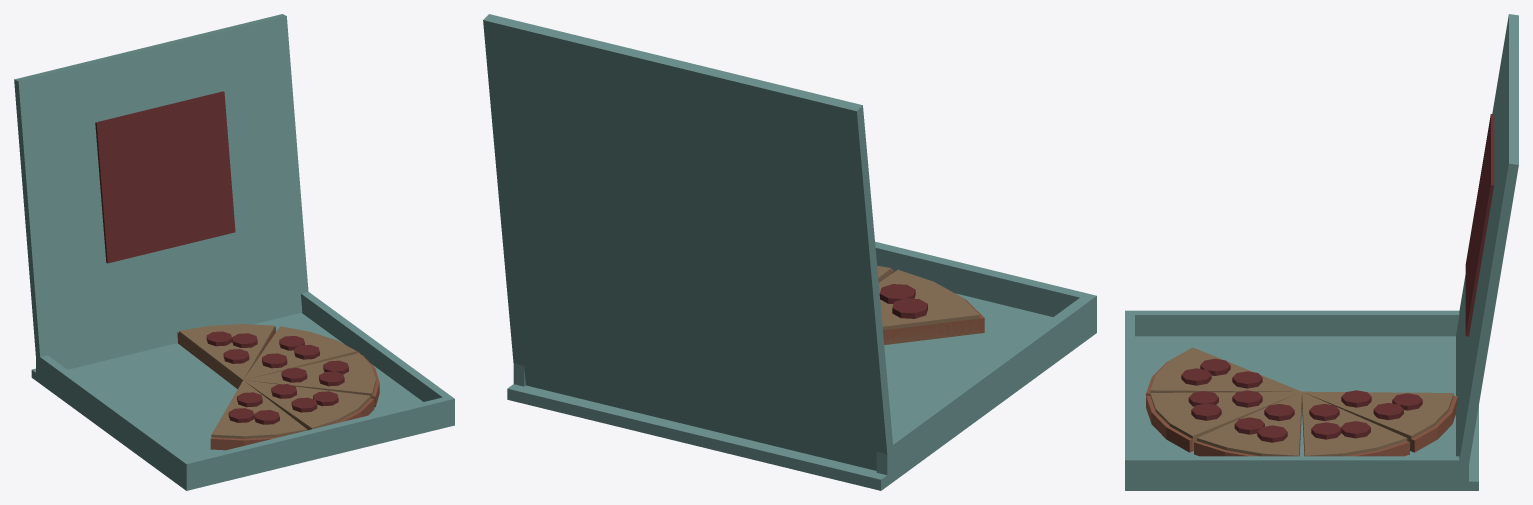
The model's file is pizza.glb.
3 views of the same model, side by side, from view 1: azimuth 30°, elevation 25°; view 2: azimuth 150°, elevation 25°; view 3: azimuth 270°, elevation 25° (orthographic). The views are drawn at different scales.
Visible parts, largest first — view 1: Pizza; view 2: Pizza; view 3: Pizza.
Part boxes in pixels (bbox=[...]): Pizza: bbox=[14, 14, 454, 490]; Pizza: bbox=[483, 14, 1096, 490]; Pizza: bbox=[1125, 14, 1518, 490].
Bounding box in the file's own units: 0.42 × 0.4285 × 0.4673.
